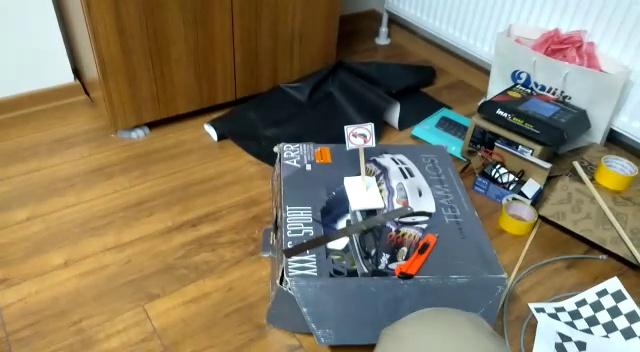sola_donulmez: (346, 124, 373, 147)
